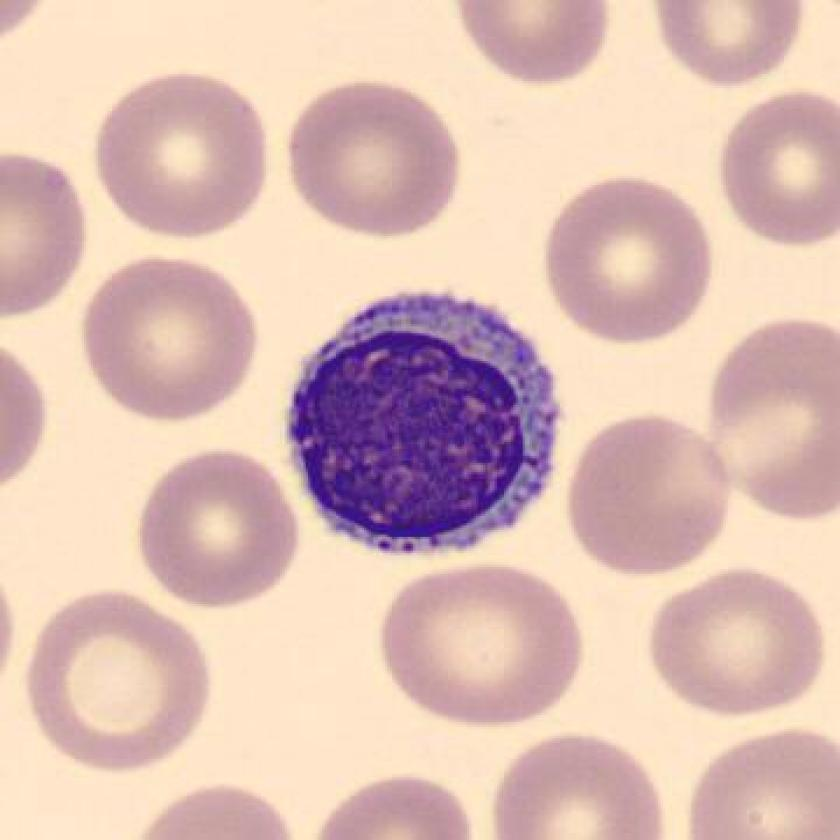lymphocyte: (274, 274, 580, 575)
